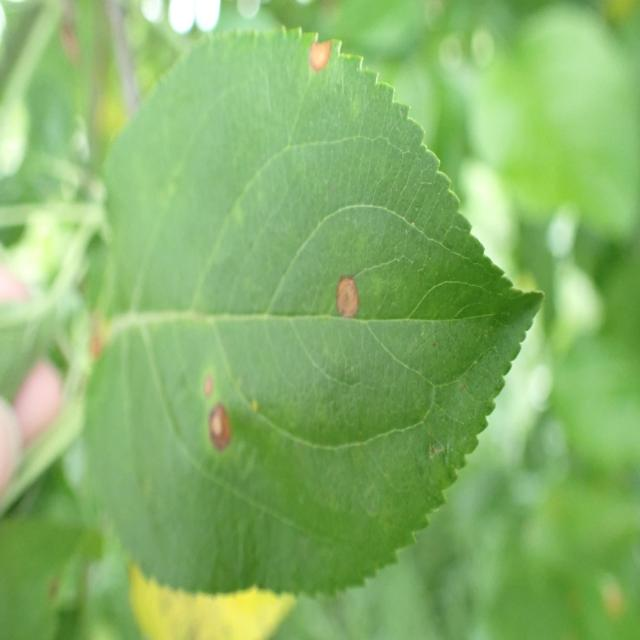frog-eye-leaf-spot: (82, 23, 545, 600)
